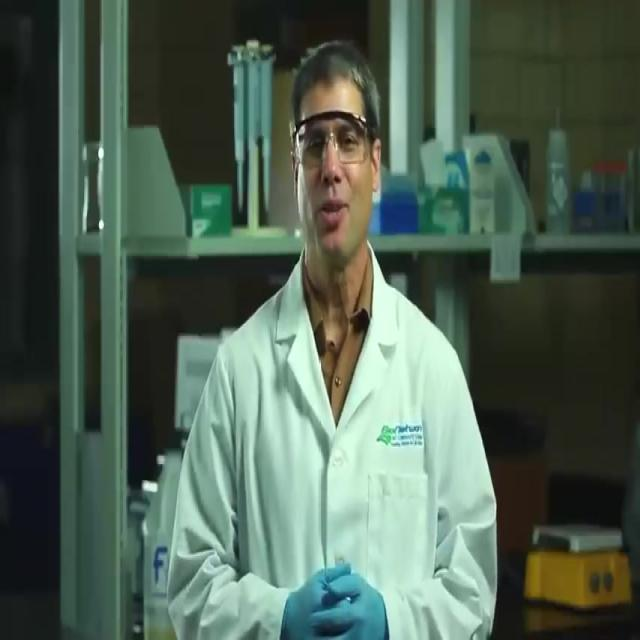googles: (295, 107, 366, 170)
labcoat: (167, 230, 496, 640)
